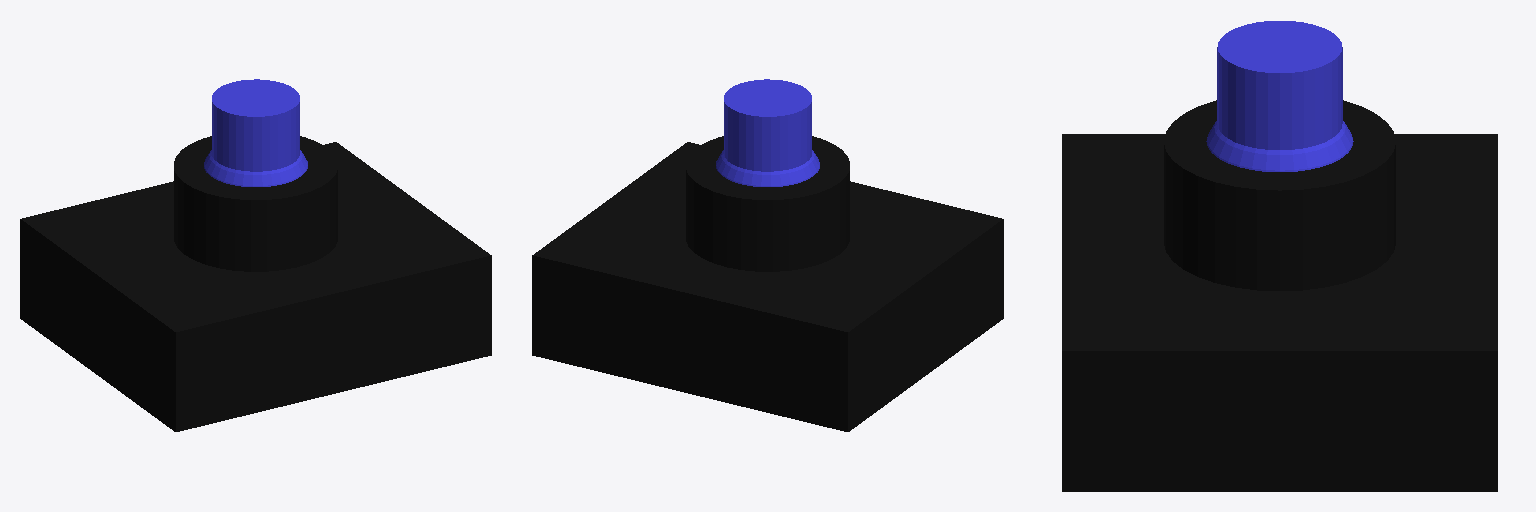
URDF robot description (evolved_robot):
<?xml version="1.0"?>
<robot name="evolved_robot">
  <material name="metal">
    <color rgba="0.7 0.7 0.7 1.0"/>
  </material>
  <material name="plastic">
    <color rgba="0.3 0.3 0.9 1.0"/>
  </material>
  <material name="rubber">
    <color rgba="0.1 0.1 0.1 1.0"/>
  </material>
  <material name="red">
    <color rgba="1.0 0.0 0.0 1.0"/>
  </material>
  <material name="wheel_material">
    <color rgba="0.2 0.2 0.2 1.0"/>
  </material>
  <link name="base_link">
    <visual>
      <geometry><box size="0.30973124463305235 0.2637592270063851 0.09384700153046605"/></geometry>
      <material name="rubber"/>
    </visual>
    <collision>
      <geometry><box size="0.30973124463305235 0.2637592270063851 0.09384700153046605"/></geometry>
    </collision>
    <inertial>
      <mass value="5.0"/>
      <inertia ixx="0.06531349127272092" ixy="0" ixz="0" 
               iyy="0.08728391966516585" iyz="0" 
               izz="0.1379186447774546"/>
    </inertial>
  </link>
  <link name="link1">
    <visual>
      <geometry><cylinder radius="0.07022127573045568" length="0.13442972936590997"/></geometry>
      <material name="rubber"/>
    </visual>
    <collision>
      <geometry><cylinder radius="0.07022127573045568" length="0.13442972936590997"/></geometry>
    </collision>
    <inertial>
      <mass value="0.5"/>
      <inertia ixx="0.0027387029027524878" ixy="0" ixz="0" 
               iyy="0.0027387029027524878" iyz="0" 
               izz="0.002465513782606342"/>
    </inertial>
  </link>
  <joint name="joint1" type="fixed">
    <parent link="base_link"/>
    <child link="link1"/>
    <origin xyz="0 0 0.04692350076523302" rpy="0 0 0"/>
    <axis xyz="-0.6712321116053033 -0.10920155303055626 0.7331592413422886"/>
    <dynamics damping="0.41966141190574124" friction="0.1"/>
  </joint>
  <link name="link2">
    <visual>
      <geometry><sphere radius="0.04774140146365198"/></geometry>
      <material name="plastic"/>
    </visual>
    <collision>
      <geometry><sphere radius="0.04774140146365198"/></geometry>
    </collision>
    <inertial>
      <mass value="0.5"/>
      <inertia ixx="0.0009116965654854366" ixy="0" ixz="0" 
               iyy="0.0009116965654854366" iyz="0" 
               izz="0.0009116965654854366"/>
    </inertial>
  </link>
  <joint name="joint2" type="fixed">
    <parent link="base_link"/>
    <child link="link2"/>
    <origin xyz="0 0 0.09692350076523303" rpy="0 0 0"/>
    <axis xyz="0.16633968180054381 -0.949888529466411 0.26465617666442853"/>
    <dynamics damping="0.32429681390972" friction="0.1"/>
  </joint>
  <link name="link3">
    <visual>
      <geometry><cylinder radius="0.037788071872525975" length="0.06036328961391901"/></geometry>
      <material name="plastic"/>
    </visual>
    <collision>
      <geometry><cylinder radius="0.037788071872525975" length="0.06036328961391901"/></geometry>
    </collision>
    <inertial>
      <mass value="0.5"/>
      <inertia ixx="0.0006606284883786191" ixy="0" ixz="0" 
               iyy="0.0006606284883786191" iyz="0" 
               izz="0.0007139691879215944"/>
    </inertial>
  </link>
  <joint name="joint3" type="fixed">
    <parent link="base_link"/>
    <child link="link3"/>
    <origin xyz="0 0 0.14692350076523303" rpy="0 0 0"/>
    <axis xyz="0.9797238074645768 -0.15802429807638813 -0.12316485823715152"/>
    <dynamics damping="0.6617432306237528" friction="0.1"/>
  </joint>
</robot>

--- What the picture shows (computed from the rendered views, not written in the file) ---
Views: 3 orthographic renders of the robot side by side, from view 1: azimuth 30°, elevation 25°; view 2: azimuth 150°, elevation 25°; view 3: azimuth 270°, elevation 25°.
Robot: evolved_robot — 4 links, 3 joints (3 fixed); root link base_link; default pose: all joints at 0.
Visible links, largest first — view 1: base_link, link1, link3, link2; view 2: base_link, link1, link3, link2; view 3: base_link, link1, link3, link2.
Link boxes in pixels (<box>): base_link: <box>20,142,491,431</box>; link1: <box>174,136,337,271</box>; link3: <box>212,79,299,171</box>; link2: <box>204,150,307,186</box>; base_link: <box>532,142,1003,431</box>; link1: <box>686,136,849,271</box>; link3: <box>724,79,811,171</box>; link2: <box>716,150,819,186</box>; base_link: <box>1062,134,1497,491</box>; link1: <box>1164,100,1395,290</box>; link3: <box>1217,21,1342,149</box>; link2: <box>1206,121,1353,171</box>.
Size in the robot's own frame: 0.3097 by 0.2638 by 0.224 metres.
Geometry: primitives only (box / cylinder / sphere), no mesh files.